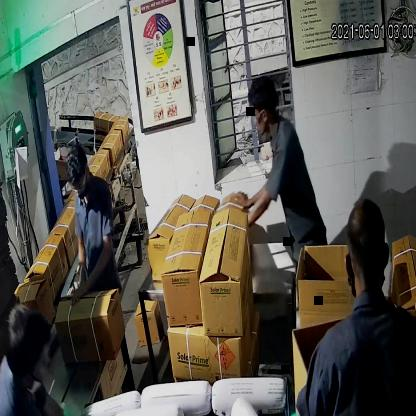goggles: (66, 172, 96, 198)
